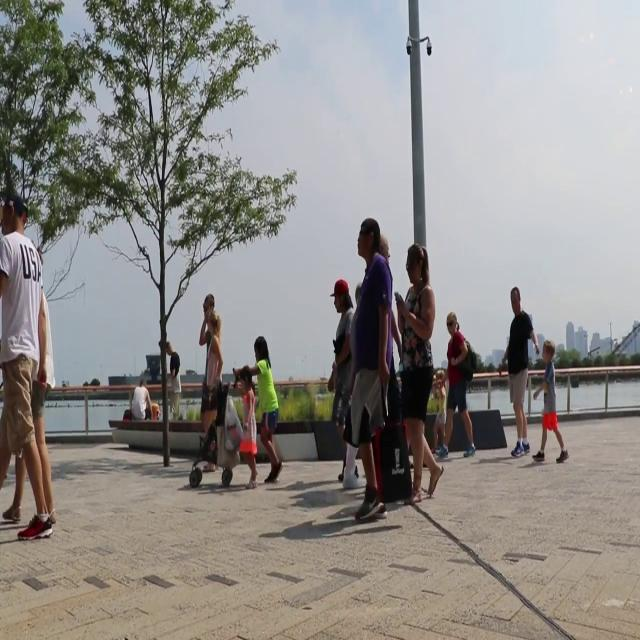normal: (1, 184, 62, 545), (350, 216, 398, 519), (442, 308, 480, 464), (501, 282, 534, 461), (250, 332, 286, 486), (539, 336, 569, 467)
